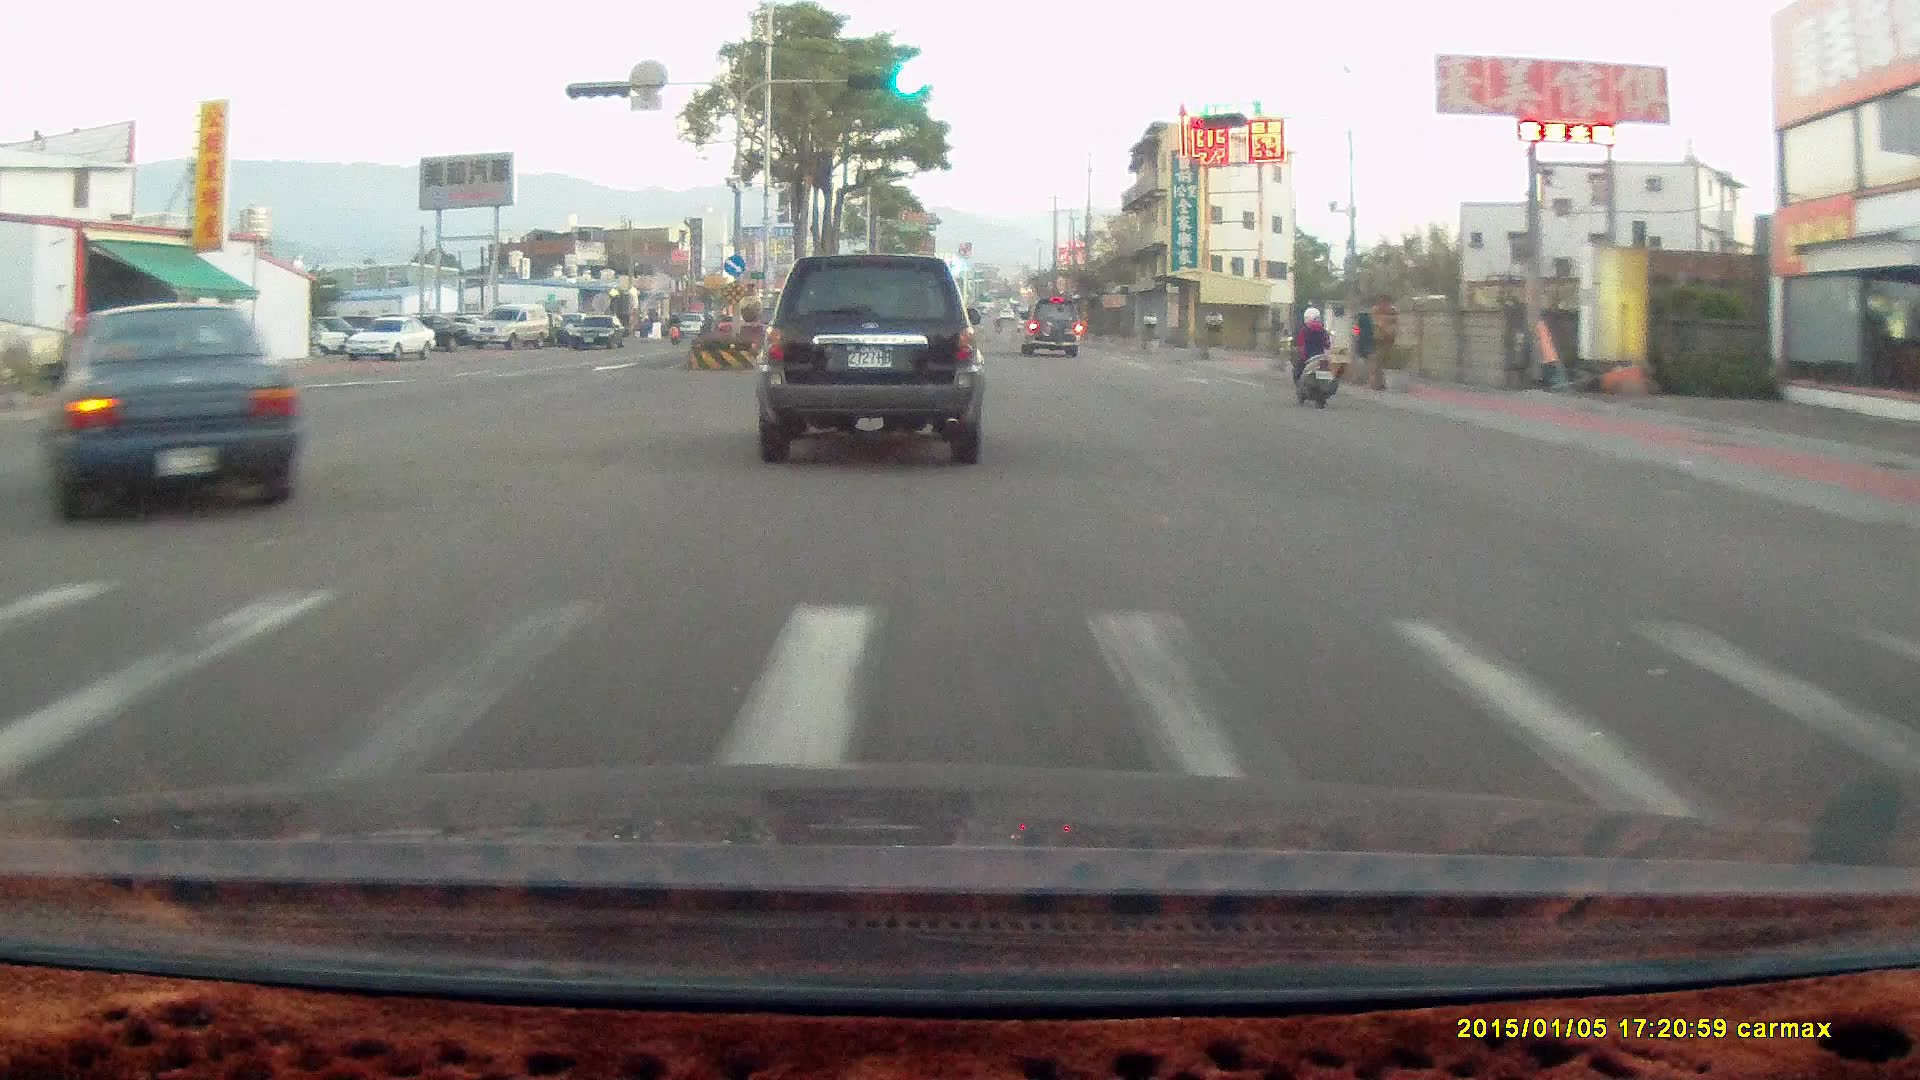rider: (1277, 295, 1350, 416), (1284, 303, 1337, 410)
vehicle: (35, 301, 301, 523), (45, 301, 303, 523), (761, 251, 993, 466), (754, 251, 985, 465), (344, 316, 433, 362), (345, 317, 434, 363), (467, 304, 550, 353), (467, 301, 548, 349), (1023, 297, 1083, 361), (1018, 297, 1081, 356), (387, 314, 467, 352), (568, 316, 626, 350), (567, 314, 624, 347)
